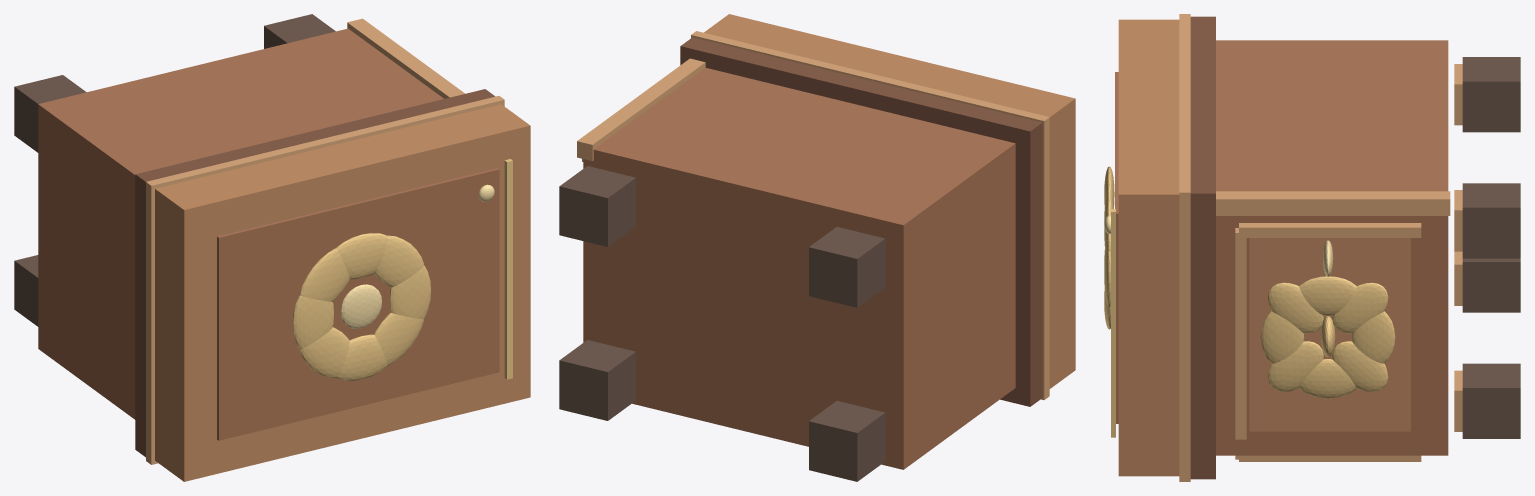
Rendered from peti_songkok_recca.glb.
3 renders of one model, left to right at view 1: azimuth 30°, elevation 25°; view 2: azimuth 150°, elevation 25°; view 3: azimuth 270°, elevation 25°, orthographic. The views are drawn at different scales.
Parts seen in each view (by area): view 1: Main chest body, Lid solid top, Top inset panel, Lid rim, Lid rim highlight, Foot dark -0.72 0.48, Corner teak stile, Top gold border, Top flower petal 3, Top flower petal 2, Top flower petal 4, Top flower petal 5 (+7 smaller); view 2: Main chest body, Lid rim, Lid solid top, Foot dark 0.72 0.48, Foot dark 0.72 -0.48, Foot dark -0.72 -0.48, Foot dark -0.72 0.48, Lid rim highlight, Corner teak stile; view 3: Main chest body, Lid solid top, Right inset panel, Lid rim, Corner teak stile, Lid rim highlight, Foot dark 0.72 0.48, Foot dark -0.72 0.48, Foot dark 0.72 -0.48, Foot dark -0.72 -0.48, Side vertical border, Side horizontal border (+16 smaller).
Boxes of the visible parts, <box> form: Main chest body: <box>38,28,443,419</box>; Lid solid top: <box>155,104,530,481</box>; Top inset panel: <box>217,168,499,440</box>; Lid rim: <box>135,89,495,457</box>; Lid rim highlight: <box>146,96,504,464</box>; Foot dark -0.72 0.48: <box>14,75,86,152</box>; Corner teak stile: <box>347,18,464,98</box>; Top gold border: <box>504,159,512,379</box>; Top flower petal 3: <box>299,248,349,301</box>; Top flower petal 2: <box>336,233,387,279</box>; Top flower petal 4: <box>292,295,333,349</box>; Top flower petal 5: <box>299,327,349,378</box>; Main chest body: <box>583,67,1015,469</box>; Lid rim: <box>680,37,1042,406</box>; Lid solid top: <box>704,14,1075,388</box>; Foot dark 0.72 0.48: <box>559,166,635,246</box>; Foot dark 0.72 -0.48: <box>559,340,635,420</box>; Foot dark -0.72 -0.48: <box>809,401,885,481</box>; Foot dark -0.72 0.48: <box>809,227,885,307</box>; Lid rim highlight: <box>691,31,1049,399</box>; Corner teak stile: <box>577,58,705,161</box>; Main chest body: <box>1216,40,1448,455</box>; Lid solid top: <box>1118,19,1179,476</box>; Right inset panel: <box>1249,238,1410,431</box>; Lid rim: <box>1190,16,1215,479</box>; Corner teak stile: <box>1216,191,1450,215</box>; Lid rim highlight: <box>1179,14,1190,481</box>; Foot dark 0.72 0.48: <box>1462,183,1520,258</box>; Foot dark -0.72 0.48: <box>1462,57,1520,132</box>; Foot dark 0.72 -0.48: <box>1462,363,1520,438</box>; Foot dark -0.72 -0.48: <box>1462,258,1520,312</box>; Side vertical border: <box>1239,223,1421,237</box>; Side horizontal border: <box>1235,228,1246,439</box>.
Size of the model in its own units: 2.17 by 1.66 by 2.01.
